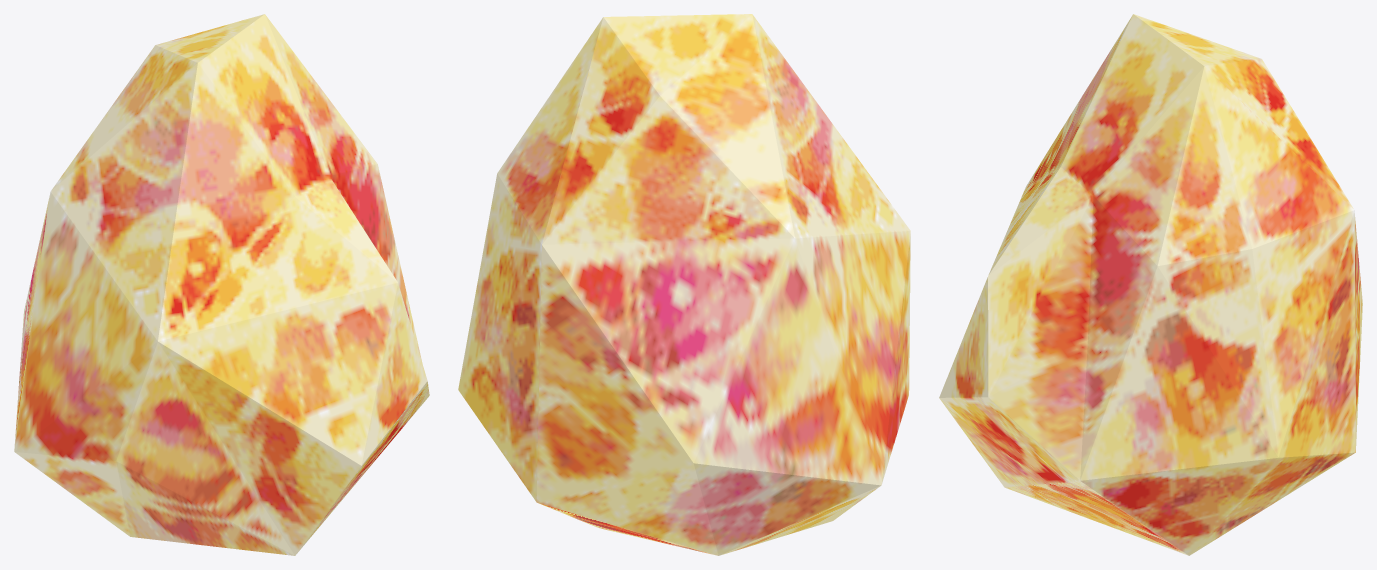
The picture shows the model from 3 angles, left to right: view 1: azimuth 30°, elevation 25°; view 2: azimuth 150°, elevation 25°; view 3: azimuth 270°, elevation 25°; orthographic projection. The views are drawn at different scales.
Parts seen in each view (by area): view 1: lightstone_s_02; view 2: lightstone_s_02; view 3: lightstone_s_02.
Part boxes in pixels (box(x1,y1,x2,y2)): lightstone_s_02: box(14, 14, 429, 555); lightstone_s_02: box(458, 14, 910, 555); lightstone_s_02: box(939, 14, 1362, 555).
Size of the model in its own units: 0.0314 by 0.0405 by 0.032.
1 material, 1 textured.
